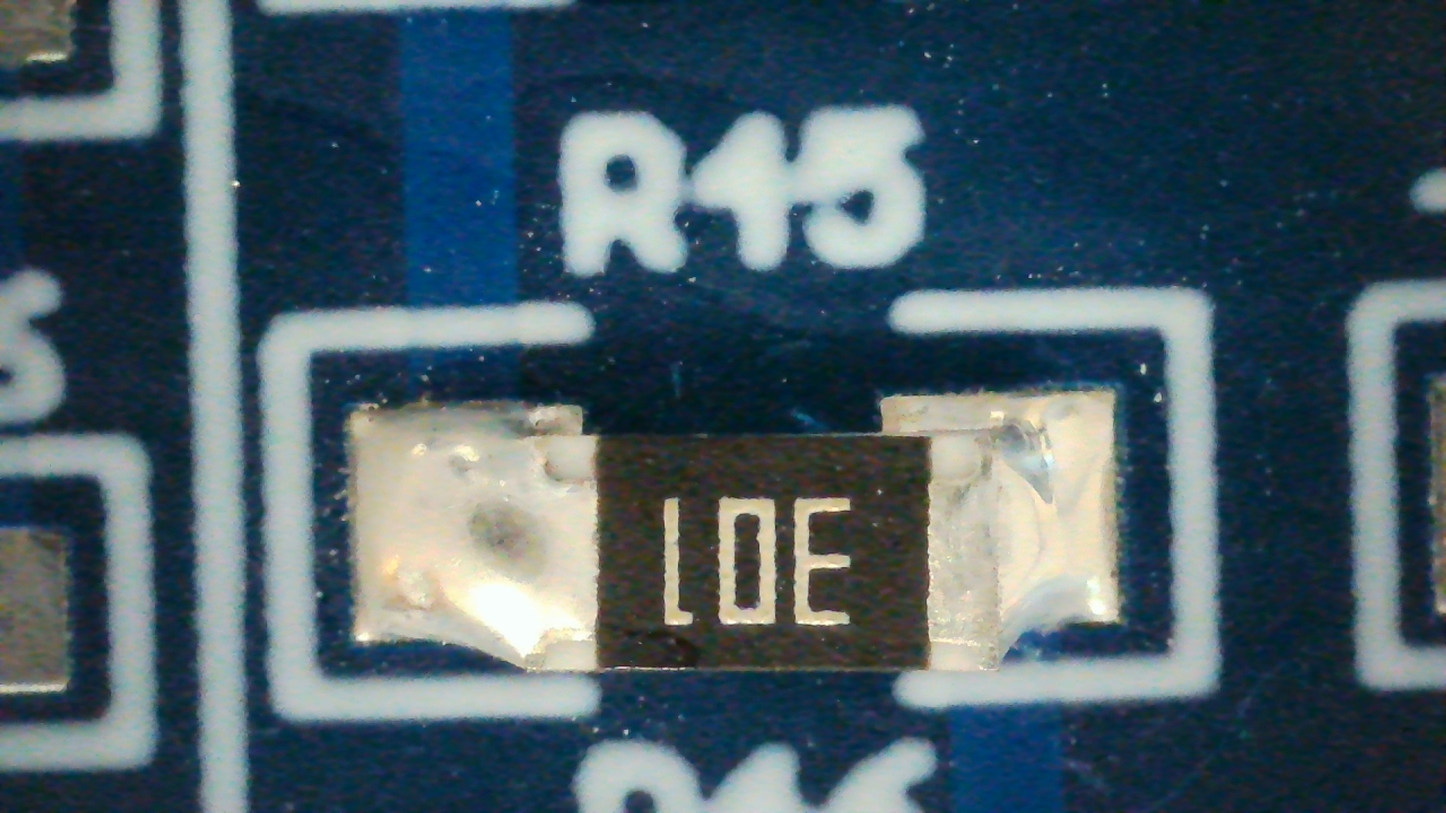NG: (353, 391, 1120, 671)
